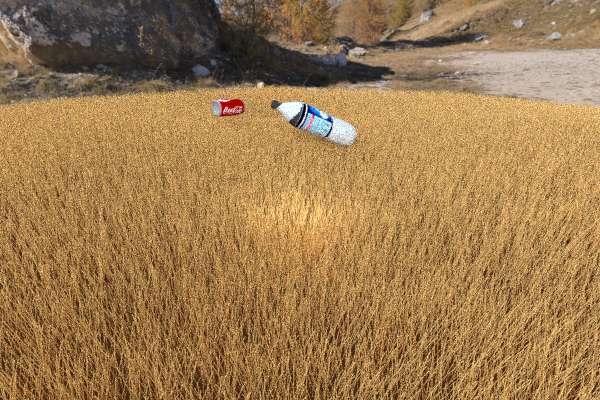bottle: (270, 99, 357, 146)
can: (211, 98, 245, 116)
